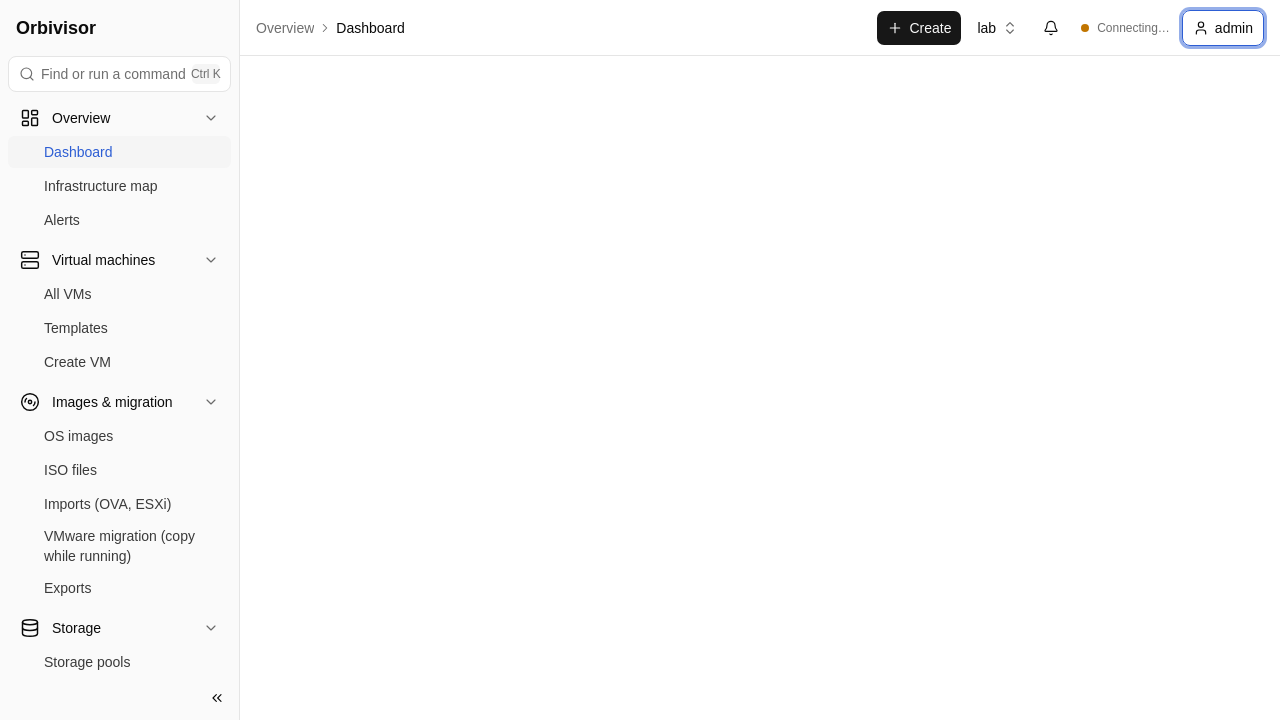
Test case: opens with ⌘K or Ctrl+K and gives focus back on Escape
Type keys "{Control>}k{/Control}"
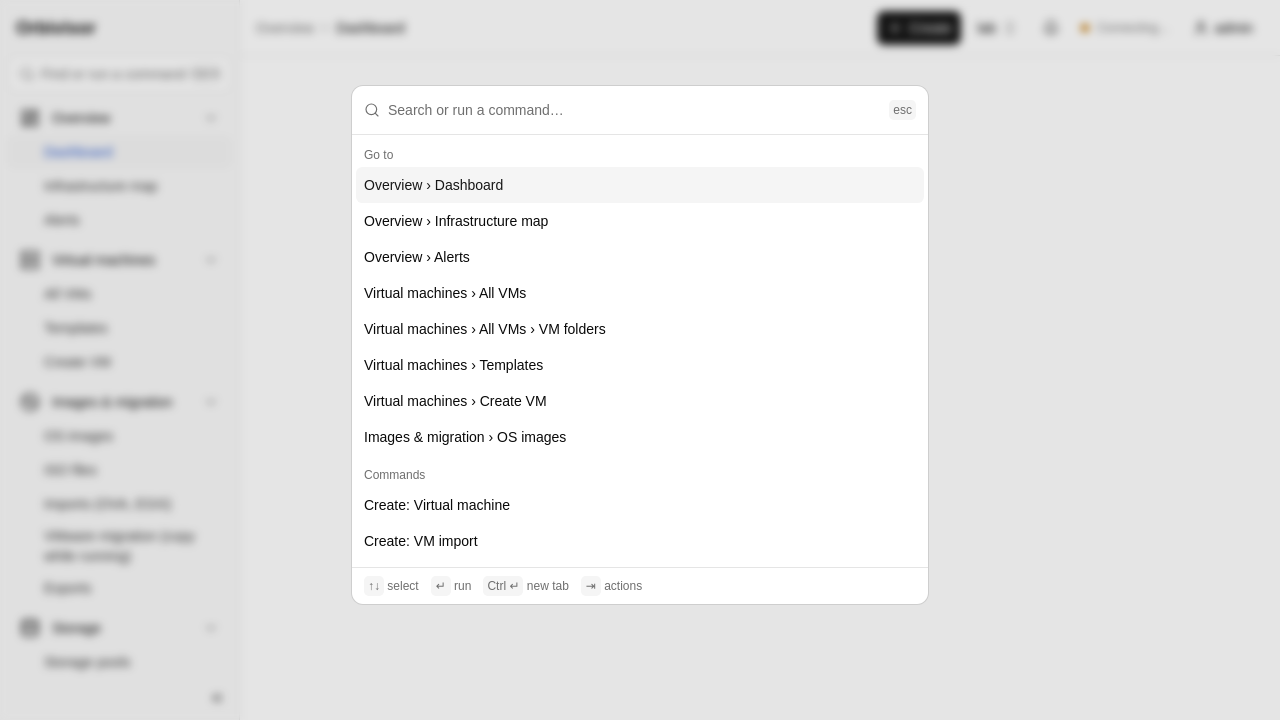
Press Escape
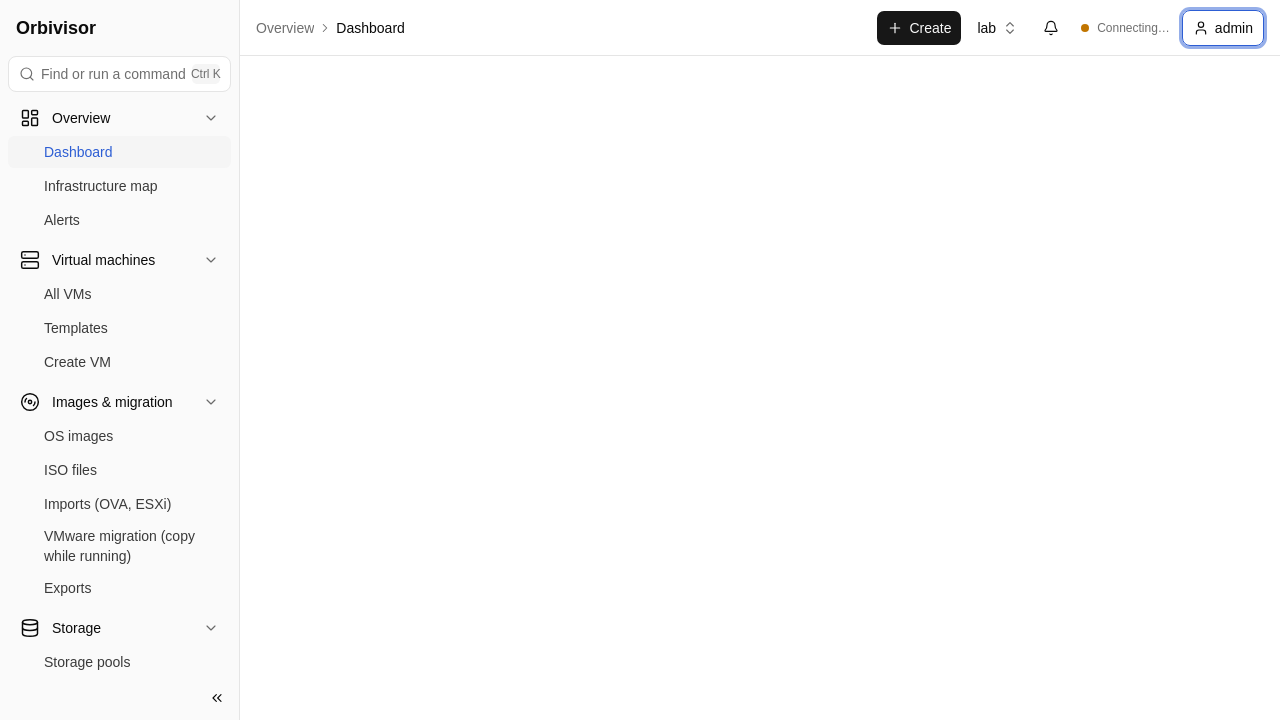
Now the dialog is gone
Click the button with aria-label "Search or run a command": (120, 74) 8,56 -> 231,92
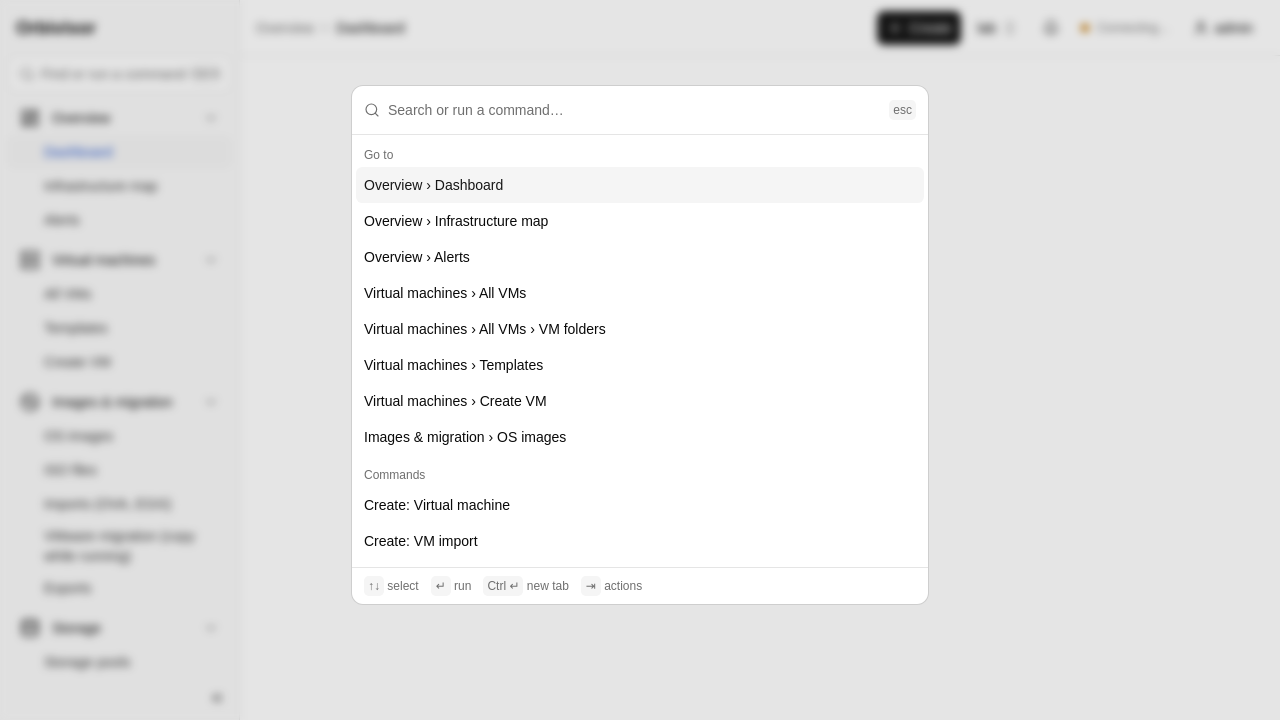
Now the dialog named "Command palette" is shown, box 352,86 -> 928,604
⌘K를 다시 누르면 닫는다.
Type keys "{Meta>}k{/Meta}"
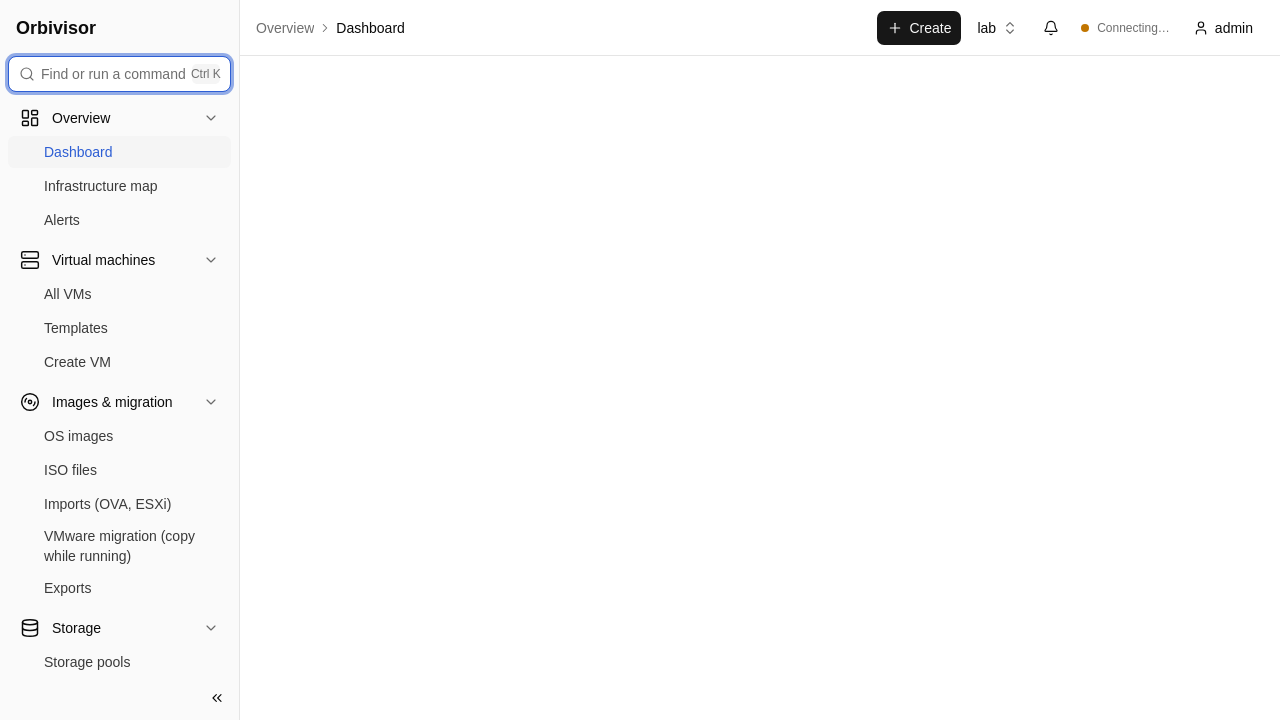
Now the dialog is gone
